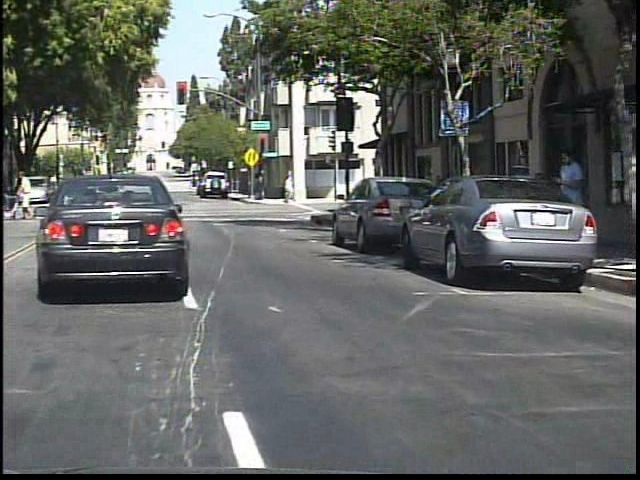person: (549, 142, 586, 265), (23, 172, 44, 221), (2, 175, 18, 210), (35, 174, 36, 208)
